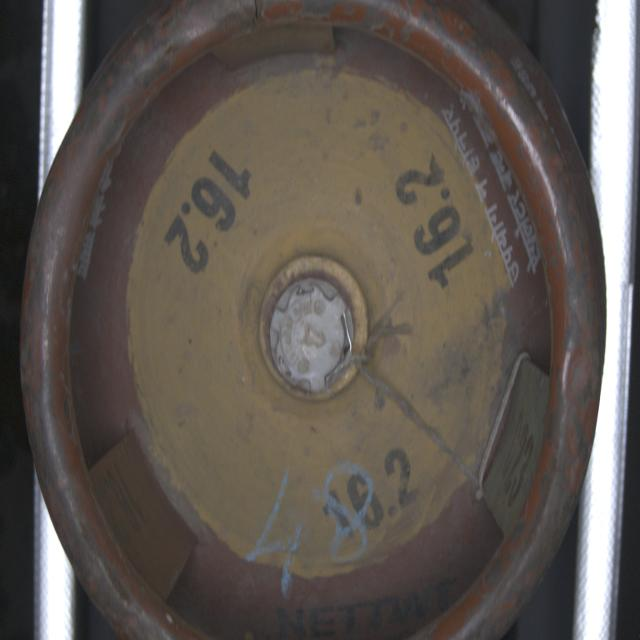Cap: (269, 269, 357, 395)
